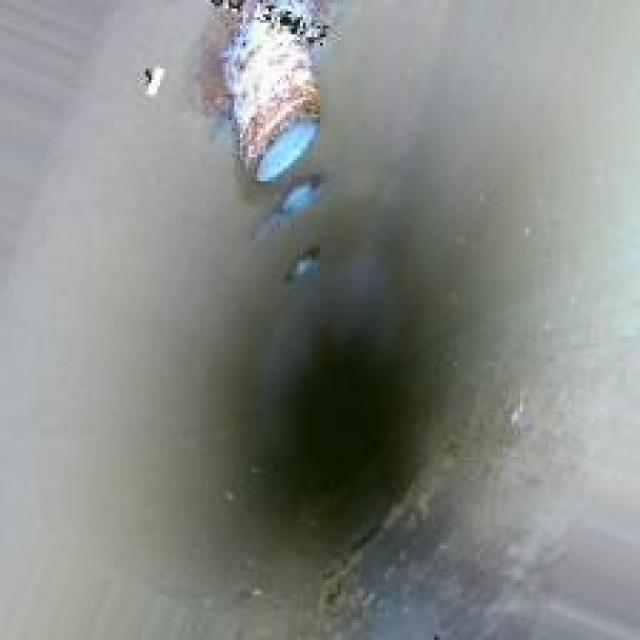ferrule: (205, 3, 328, 177), (274, 180, 329, 217), (274, 243, 326, 277)
